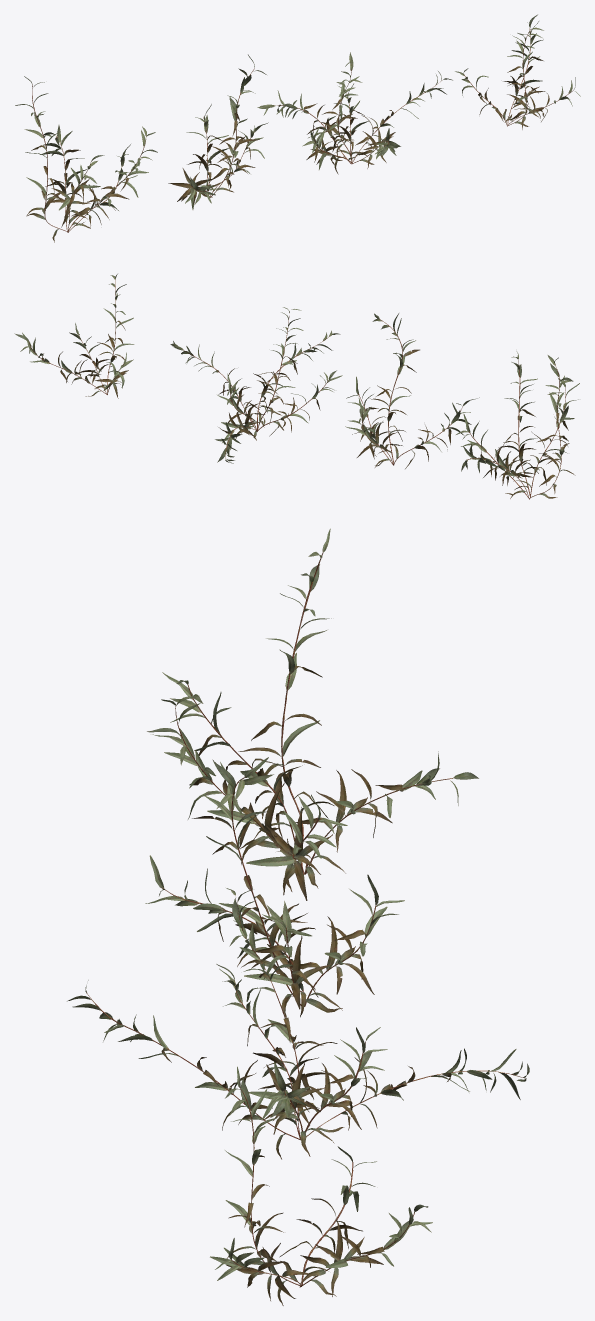
Rendered from organic-shrub_02.glb.
3 views of the same model, one above another, from view 1: azimuth 30°, elevation 25°; view 2: azimuth 150°, elevation 25°; view 3: azimuth 270°, elevation 25° (orthographic). The views are drawn at different scales.
Parts seen in each view (by area): view 1: shrub_02_c, shrub_02_a, shrub_02_b, shrub_02_d; view 2: shrub_02_a, shrub_02_c, shrub_02_b, shrub_02_d; view 3: shrub_02_a, shrub_02_c, shrub_02_b, shrub_02_d.
Part boxes in pixels (x1,y1,x2,y2): shrub_02_c: (257, 52, 452, 174); shrub_02_a: (15, 76, 157, 242); shrub_02_b: (168, 54, 268, 209); shrub_02_d: (455, 14, 580, 129); shrub_02_a: (456, 351, 579, 499); shrub_02_c: (170, 307, 342, 463); shrub_02_b: (345, 313, 479, 468); shrub_02_d: (14, 274, 134, 398); shrub_02_a: (147, 528, 478, 900); shrub_02_c: (67, 888, 529, 1159); shrub_02_b: (145, 757, 404, 1018); shrub_02_d: (210, 1066, 432, 1305).
Size of what is drawn, in the model's own units: 6.05 by 1.7 by 2.29.
1 material, 1 textured.
